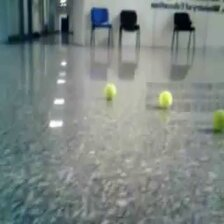tennis: (212, 108, 224, 135), (159, 91, 173, 108), (104, 84, 116, 99)
